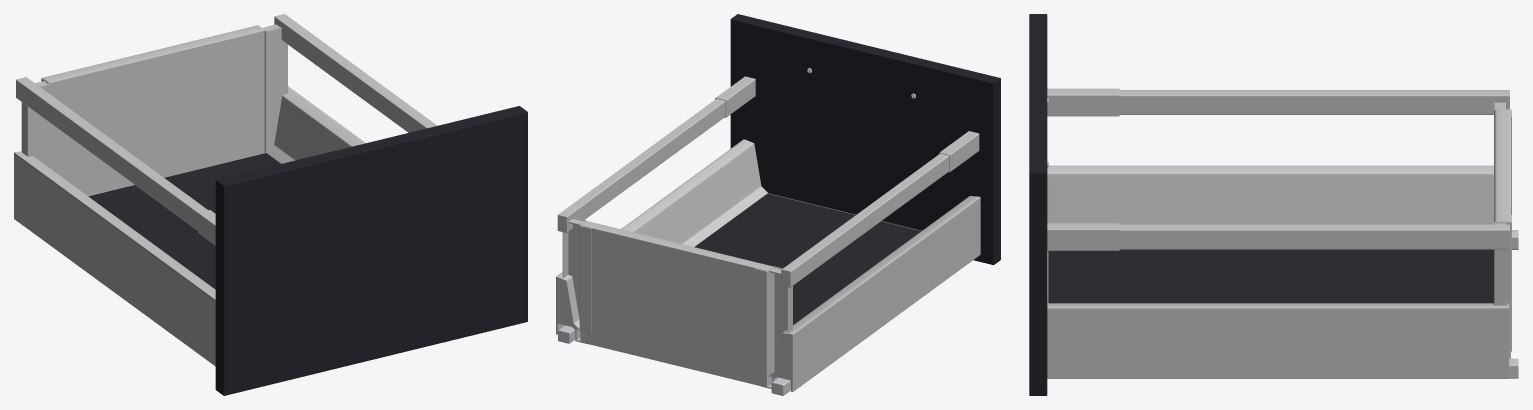
The model's file is SM_Kitchen_06_Drawer_02.dae.
3 views of the same model, side by side, from view 1: azimuth 30°, elevation 25°; view 2: azimuth 150°, elevation 25°; view 3: azimuth 270°, elevation 25° (orthographic). The views are drawn at different scales.
Parts seen in each view (by area): view 1: SM_Kitchen_06_Base_Drawer_02; view 2: SM_Kitchen_06_Base_Drawer_02; view 3: SM_Kitchen_06_Base_Drawer_02.
Boxes of the visible parts, x1,y1,x2,y2 form: SM_Kitchen_06_Base_Drawer_02: (14, 14, 527, 395); SM_Kitchen_06_Base_Drawer_02: (556, 14, 1000, 395); SM_Kitchen_06_Base_Drawer_02: (1029, 14, 1518, 395).
Size of the model in its own units: 0.398 by 0.5199 by 0.263.
